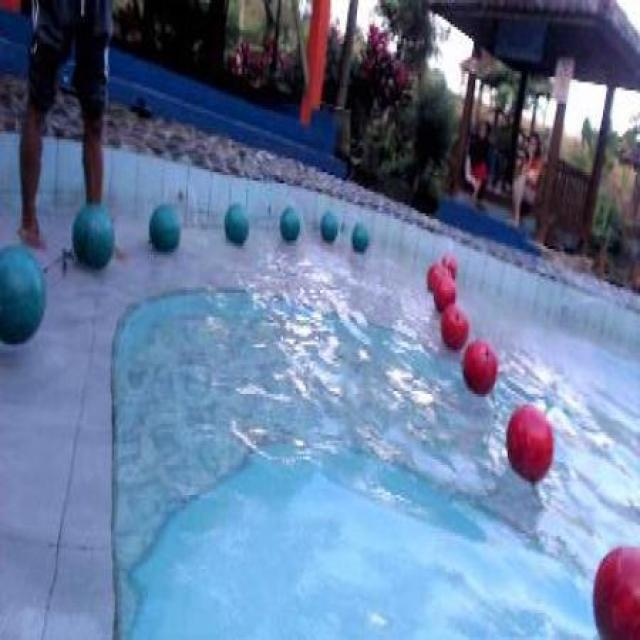buoy: (0, 244, 46, 342), (592, 544, 638, 638), (505, 402, 553, 484), (71, 201, 114, 270), (462, 334, 498, 394), (147, 203, 179, 250), (439, 302, 468, 349), (430, 271, 456, 309), (224, 203, 248, 244), (280, 208, 300, 240), (349, 220, 368, 250), (319, 211, 336, 243)
